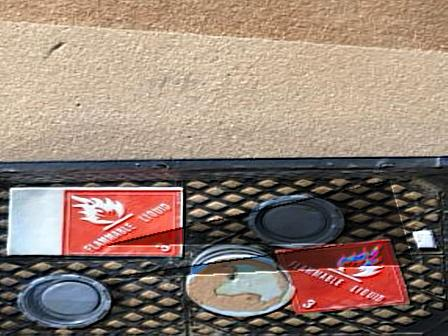flammable: (278, 240, 411, 311), (59, 191, 186, 257)
